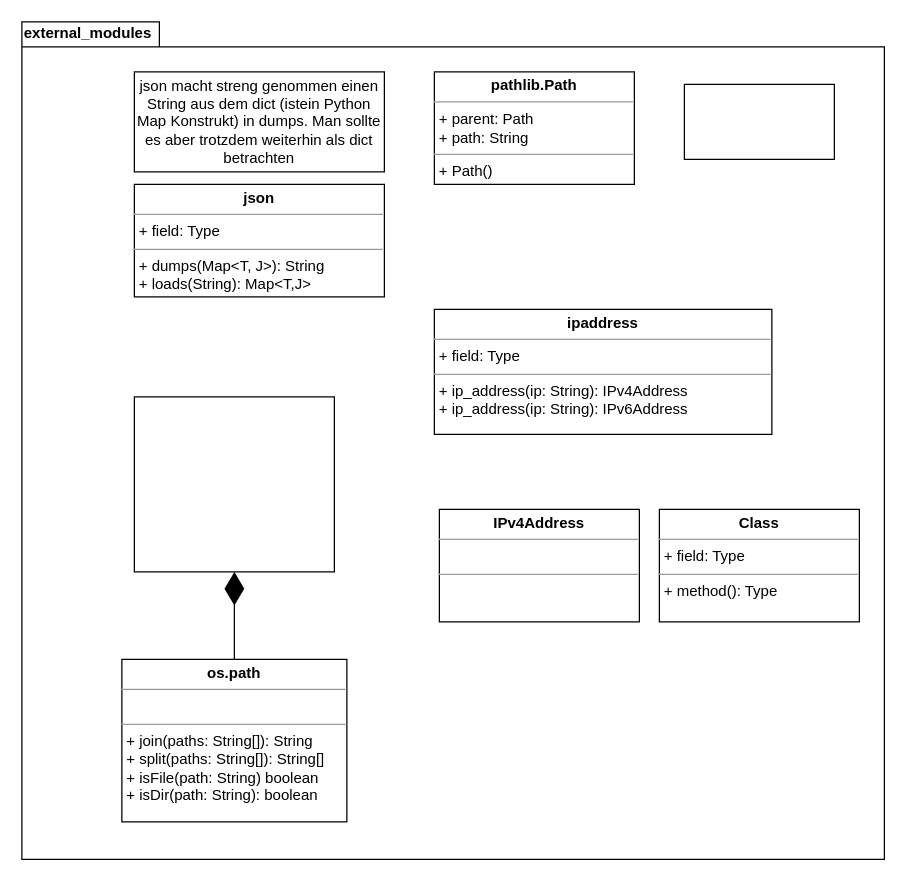
This 906x881 diagram has some shape labels left out. The shapes that lost their labels are listed below. From the top down, each one's box as (x1, y1, x2, y2) in pixels, then its label:
(683, 83, 834, 159): Path() generiert basierend auf dem Betriebssystem den Pfad (als String)
(133, 396, 334, 572): os + getcwd(): String + listdir(): String[] + mkdir(path: String)
